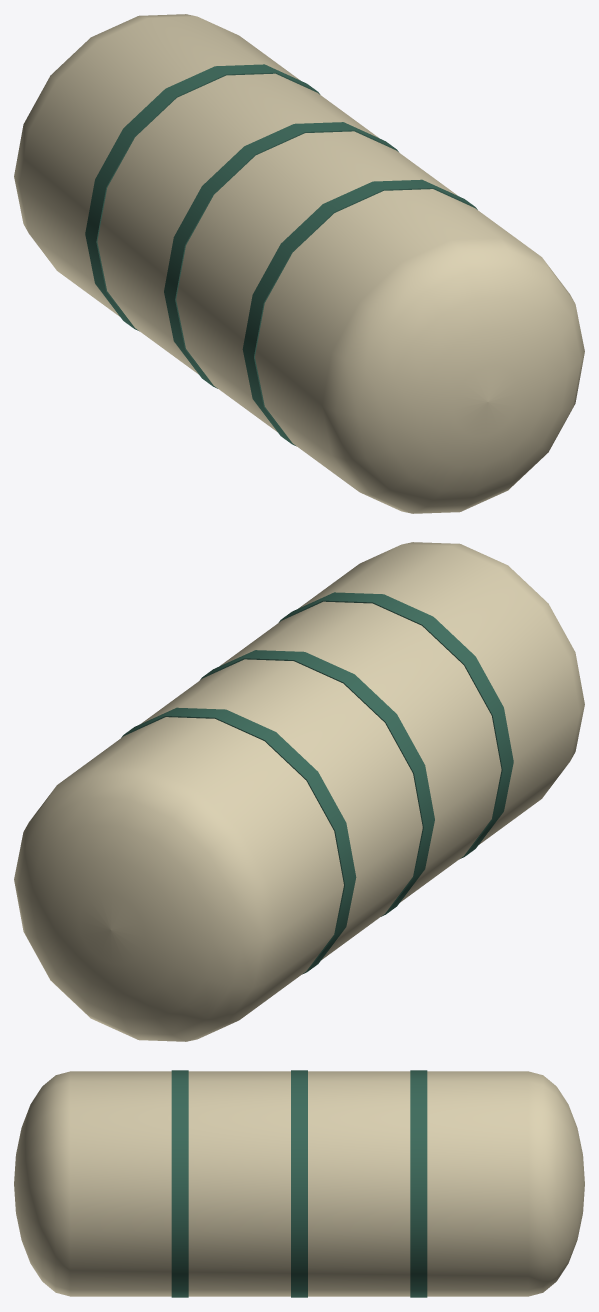
Rendered from tank4200_tank.obj.
The picture shows the model from 3 angles, top to bottom: view 1: azimuth 30°, elevation 25°; view 2: azimuth 150°, elevation 25°; view 3: azimuth 270°, elevation 25°; orthographic projection. The views are drawn at different scales.
Visible parts, largest first — view 1: tank4200_tank; view 2: tank4200_tank; view 3: tank4200_tank.
Boxes of the visible parts, <box> form: tank4200_tank: <box>14,14,584,513</box>; tank4200_tank: <box>14,542,584,1041</box>; tank4200_tank: <box>14,1070,584,1297</box>.
Size of the model in its own units: 12.1 by 12.1 by 30.4.
